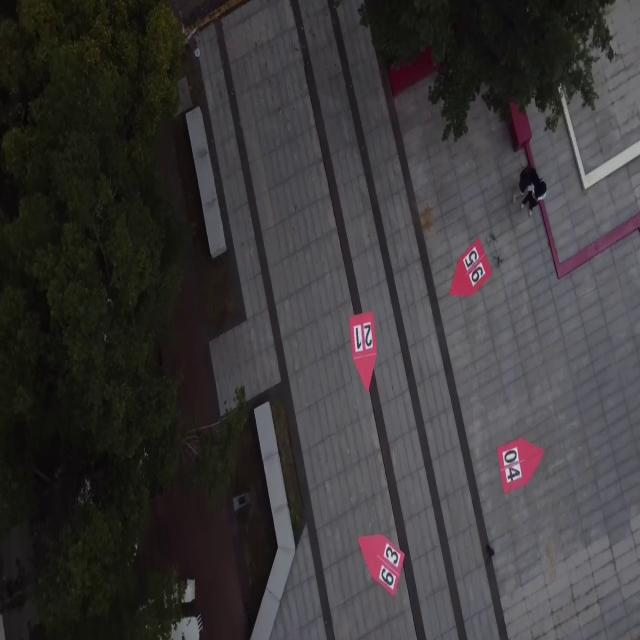-sign-: (358, 533, 406, 596), (450, 238, 493, 299), (498, 436, 543, 494), (350, 311, 378, 395)
